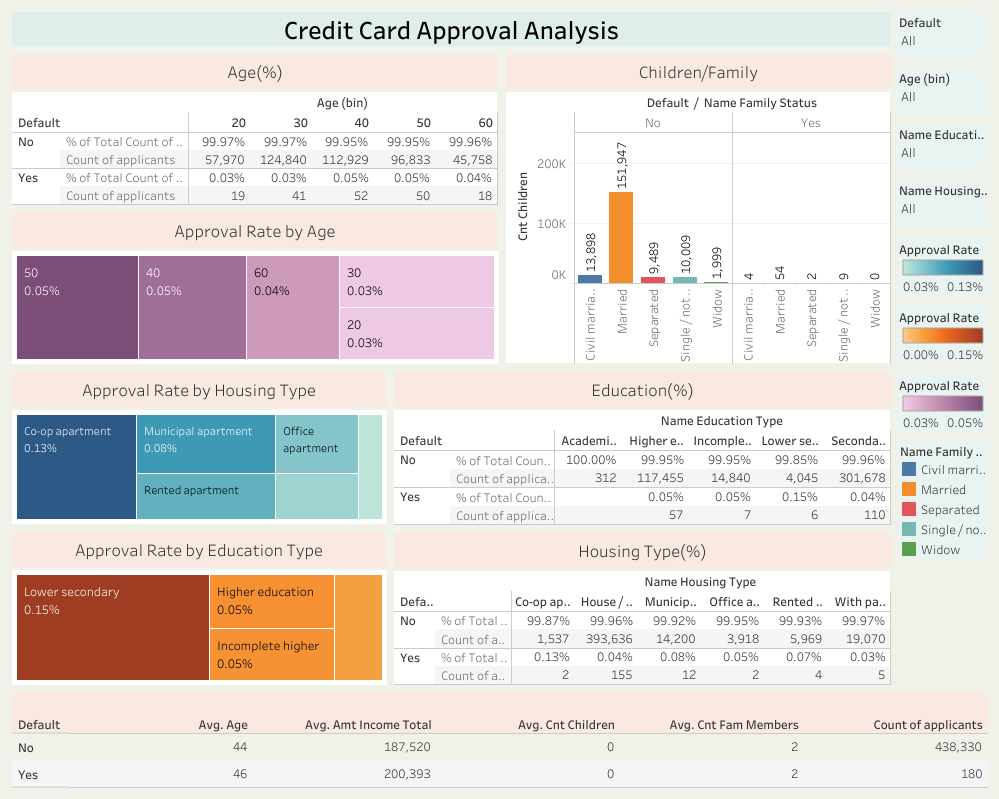

The dashboard page shown, as its layout file describes it:
{"tool":"tableau","page":{"name":"Credit Card Approval Analysis","canvas":[1000,800],"ordinal":0},"visuals":[{"type":"title","box":[8,8,887,41]},{"type":"filter","title":"Children/Family","param":"[federated.1bmfs6319iwgu818jx2ob0dmez0k].[none:Default:nk]","box":[895,8,97,52]},{"type":"worksheet","title":"Age(%)","mark":"Automatic","rows":["Default"],"cols":["Age (bin)"],"box":[8,49,494,159.5]},{"type":"worksheet","title":"Children/Family","mark":"Automatic","rows":["CNT_CHILDREN"],"cols":["Default","NAME_FAMILY_STATUS"],"box":[502,49,393,319]},{"type":"filter","title":"Approval Rate by Age","param":"[federated.1bmfs6319iwgu818jx2ob0dmez0k].[none:Age (bin):ok]","box":[895,60,97,52]},{"type":"filter","title":"Approval Rate by Education Type","param":"[federated.1bmfs6319iwgu818jx2ob0dmez0k].[none:NAME_EDUCATION_TYPE:nk]","box":[895,112,97,52]},{"type":"filter","title":"Approval Rate by Housing Type","param":"[federated.1bmfs6319iwgu818jx2ob0dmez0k].[none:NAME_HOUSING_TYPE:nk]","box":[895,164,97,52]},{"type":"worksheet","title":"Approval Rate by Age","mark":"Automatic","box":[8,208.5,494,159.5]},{"type":"legend","title":"Approval Rate by Housing Type","param":"[federated.1bmfs6319iwgu818jx2ob0dmez0k].[usr:Calculation_1387390226351632384:qk","box":[895,216,97,65]},{"type":"legend","title":"Approval Rate by Education Type","param":"[federated.1bmfs6319iwgu818jx2ob0dmez0k].[usr:Calculation_1387390226351632384:qk","box":[895,281,97,65]},{"type":"legend","title":"Approval Rate by Age","param":"[federated.1bmfs6319iwgu818jx2ob0dmez0k].[usr:Calculation_1387390226351632384:qk","box":[895,346,97,65]},{"type":"worksheet","title":"Approval Rate by Housing Type","mark":"Automatic","box":[8,368,382,160]},{"type":"worksheet","title":"Education(%)","mark":"Automatic","rows":["Default"],"cols":["NAME_EDUCATION_TYPE"],"box":[390,368,505,160.5]},{"type":"legend","title":"Children/Family","param":"[federated.1bmfs6319iwgu818jx2ob0dmez0k].[none:NAME_FAMILY_STATUS:nk]","box":[895,411,97,126]},{"type":"worksheet","title":"Approval Rate by Education Type","mark":"Automatic","box":[8,528,382,161]},{"type":"worksheet","title":"Housing Type(%)","mark":"Automatic","rows":["Default"],"cols":["NAME_HOUSING_TYPE"],"box":[390,528.5,505,160.5]},{"type":"worksheet","title":"AVG","mark":"Automatic","rows":["Default"],"box":[8,689,984,103]}]}

Visuals, with their boxes in screenshot pixels (x1, y1, x2, y2), scaled from the page's 1000x800 canvas onto the 999x799 screenshot:
title: rect(8, 8, 894, 49)
"Children/Family" filter: rect(894, 8, 991, 60)
"Age(%)" worksheet: rect(8, 49, 501, 208)
"Children/Family" worksheet: rect(501, 49, 894, 368)
"Approval Rate by Age" filter: rect(894, 60, 991, 112)
"Approval Rate by Education Type" filter: rect(894, 112, 991, 164)
"Approval Rate by Housing Type" filter: rect(894, 164, 991, 216)
"Approval Rate by Age" worksheet: rect(8, 208, 501, 368)
"Approval Rate by Housing Type" legend: rect(894, 216, 991, 281)
"Approval Rate by Education Type" legend: rect(894, 281, 991, 346)
"Approval Rate by Age" legend: rect(894, 346, 991, 410)
"Approval Rate by Housing Type" worksheet: rect(8, 368, 390, 527)
"Education(%)" worksheet: rect(390, 368, 894, 528)
"Children/Family" legend: rect(894, 410, 991, 536)
"Approval Rate by Education Type" worksheet: rect(8, 527, 390, 688)
"Housing Type(%)" worksheet: rect(390, 528, 894, 688)
"AVG" worksheet: rect(8, 688, 991, 791)
